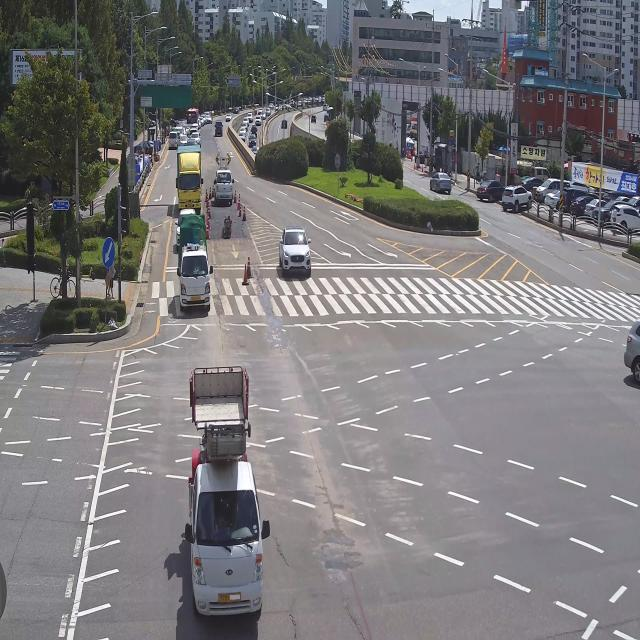Bus: (183, 106, 200, 130)
Car: (270, 216, 322, 286), (498, 180, 540, 217), (473, 166, 505, 200), (427, 162, 452, 201), (254, 114, 263, 126), (225, 110, 232, 124), (321, 100, 329, 112), (311, 115, 318, 124)
Truck: (167, 371, 277, 633), (176, 217, 212, 320), (172, 146, 207, 214), (211, 147, 237, 213), (166, 129, 178, 156)
